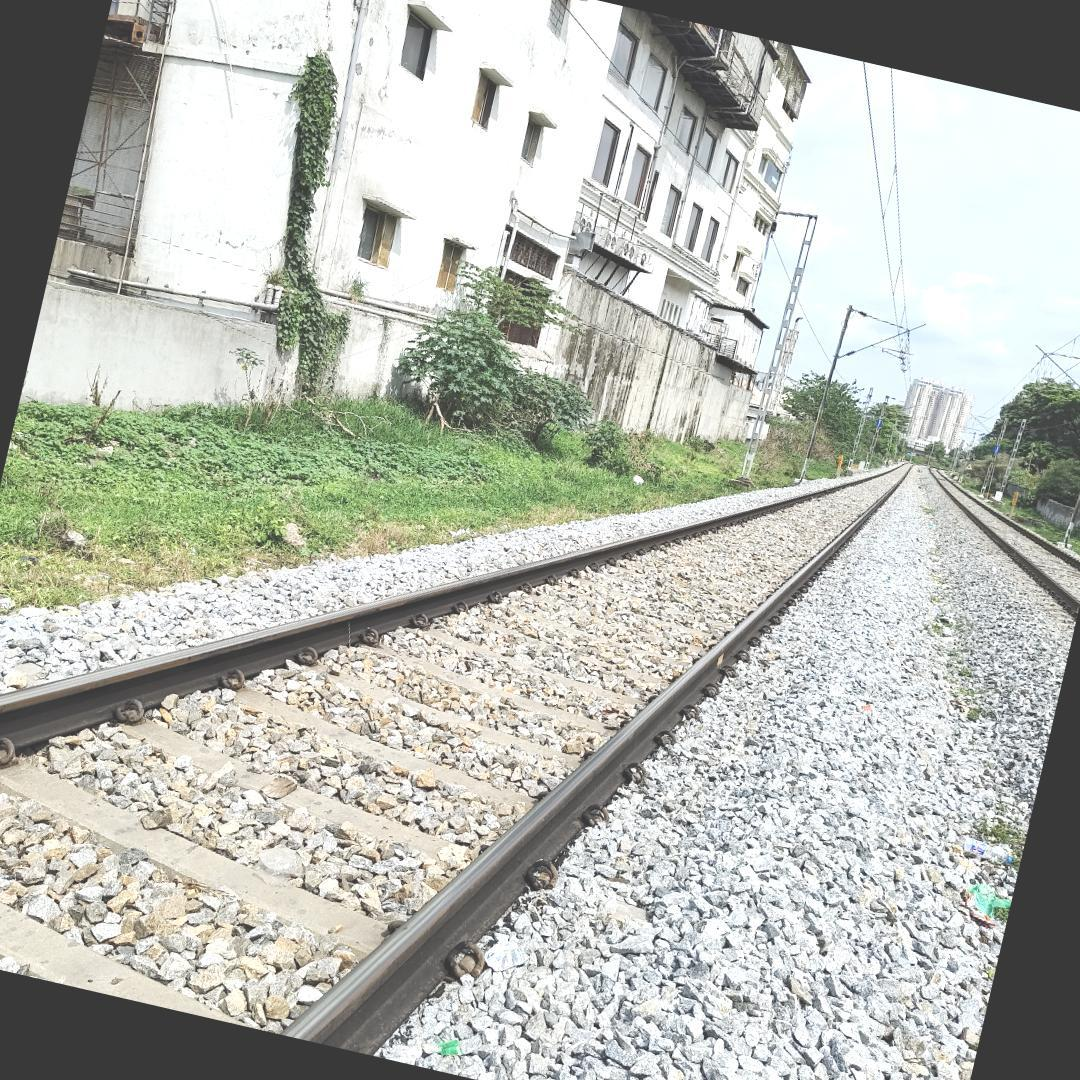track: (0, 460, 917, 1053)
